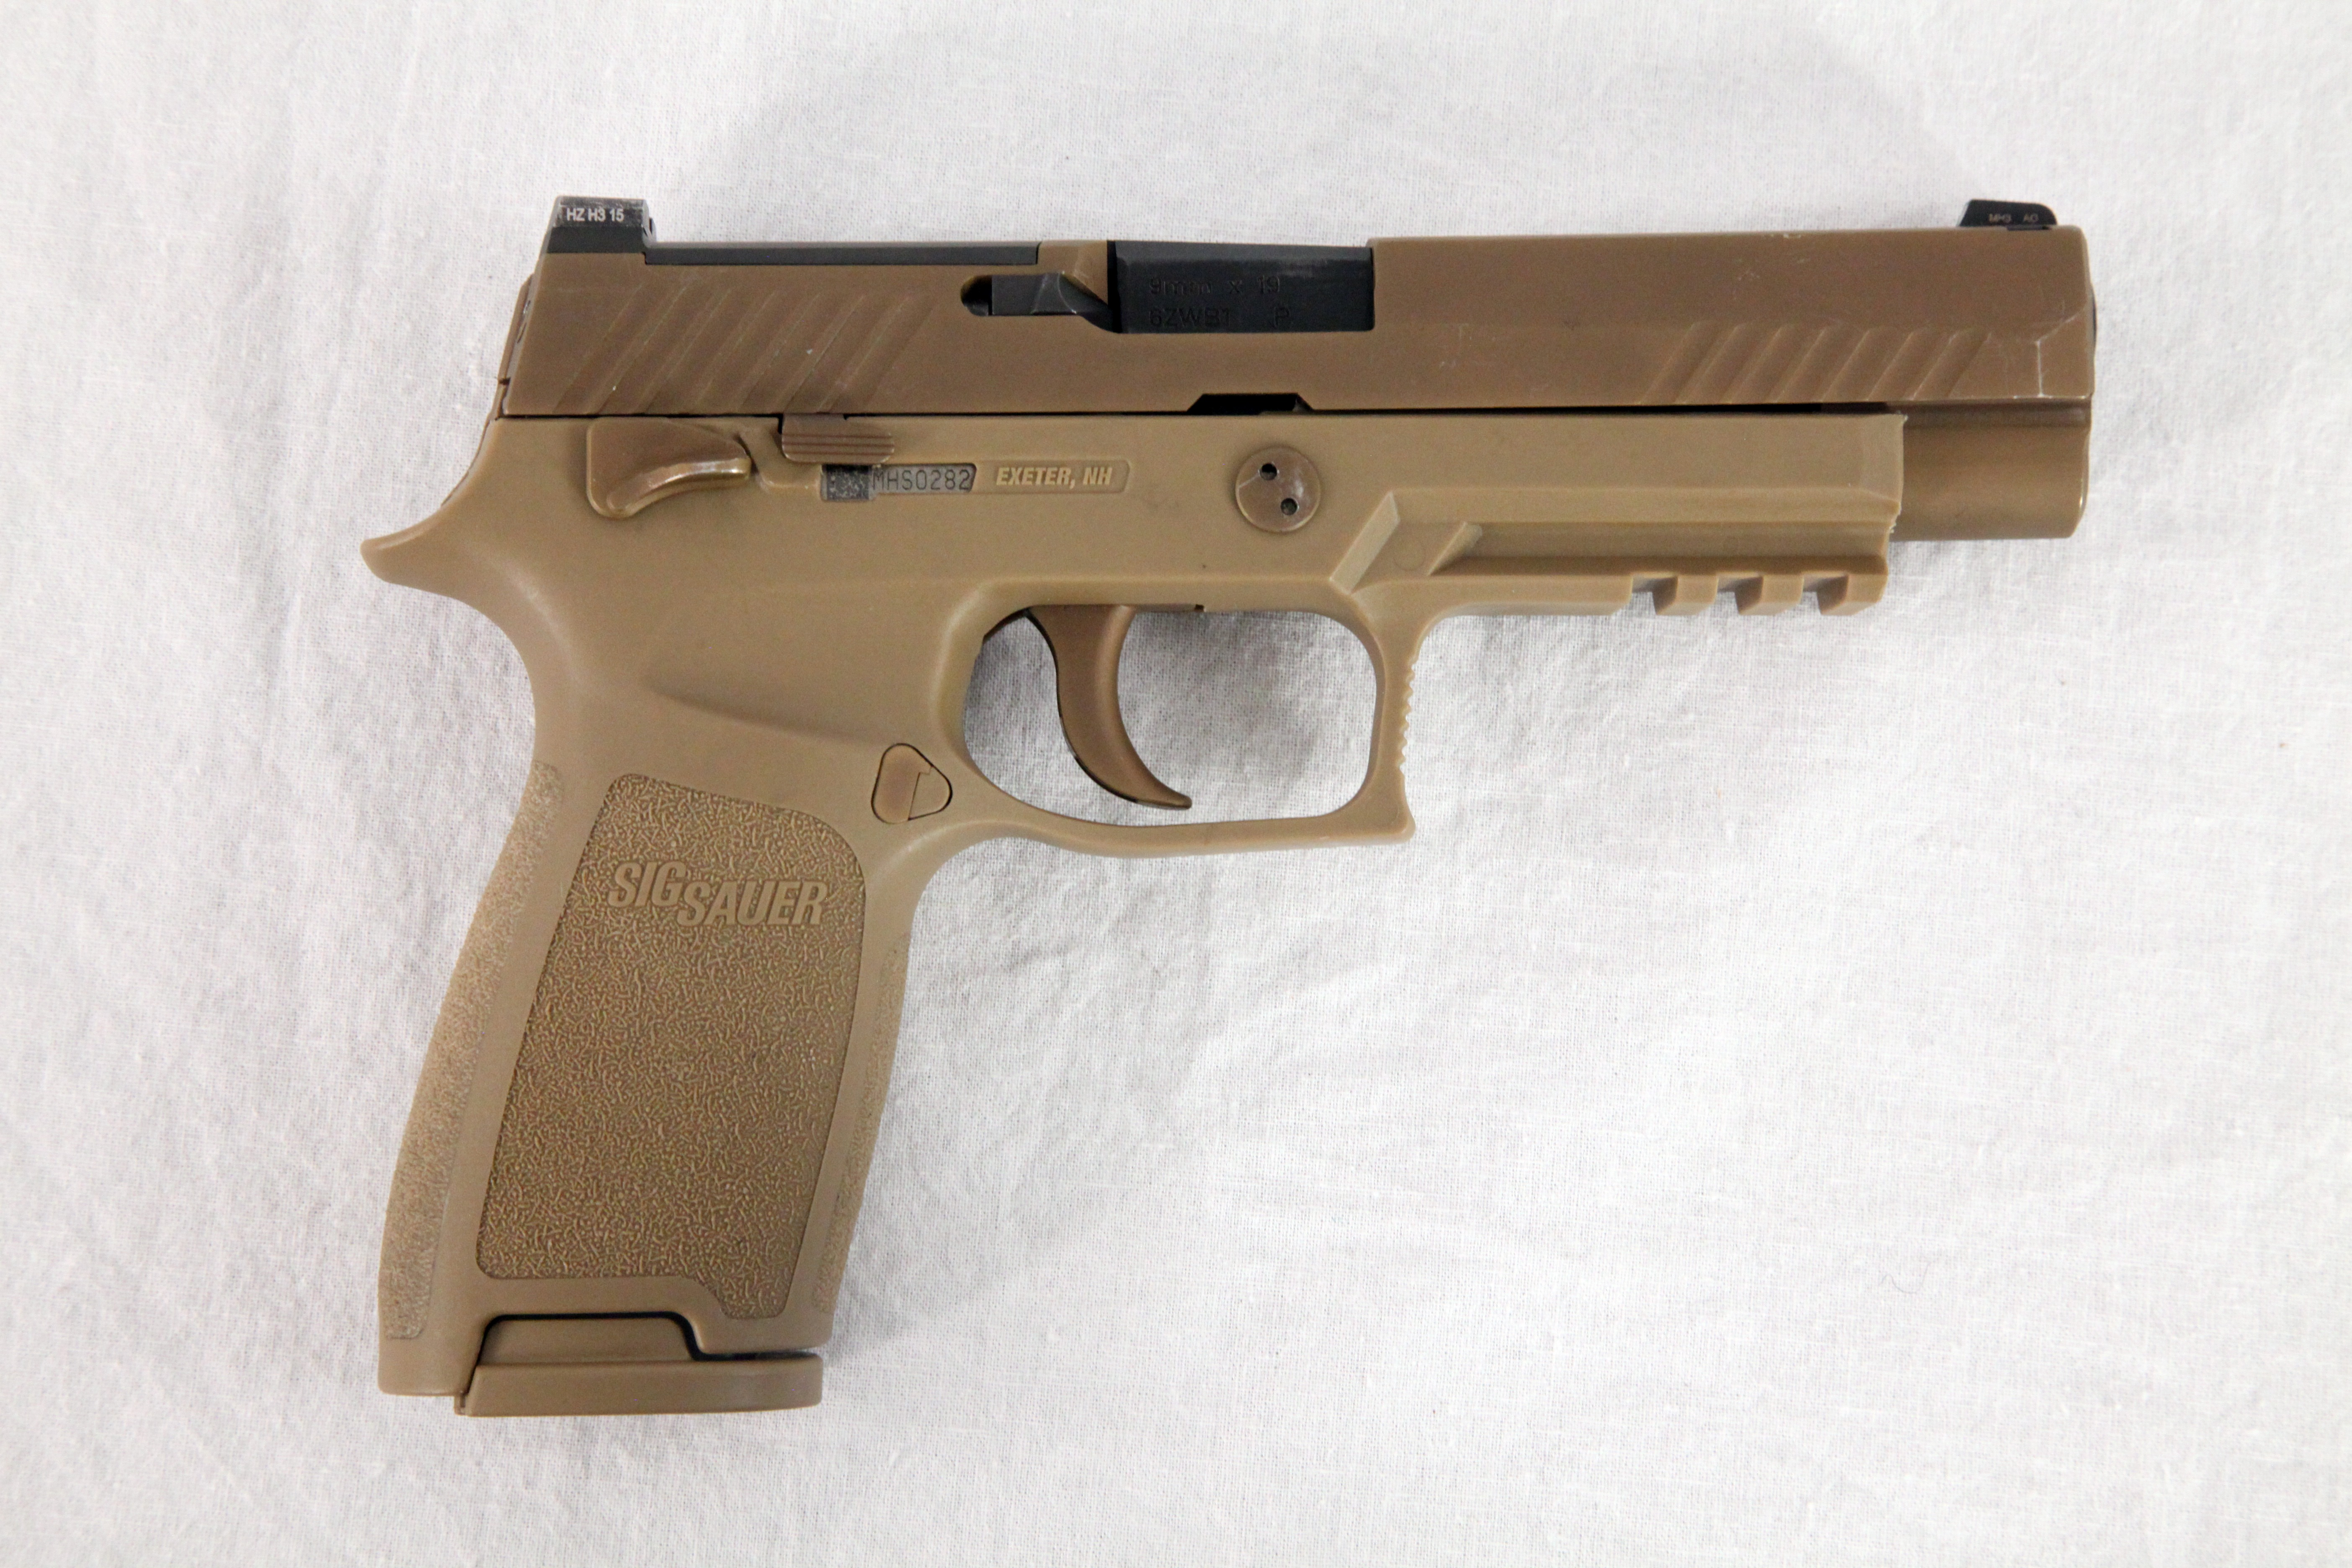gun: (343, 171, 2112, 1421)
